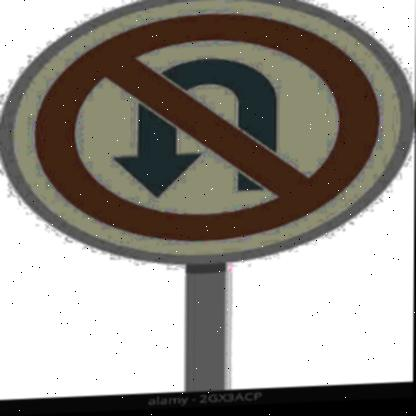No U-turn: (2, 0, 416, 270)
